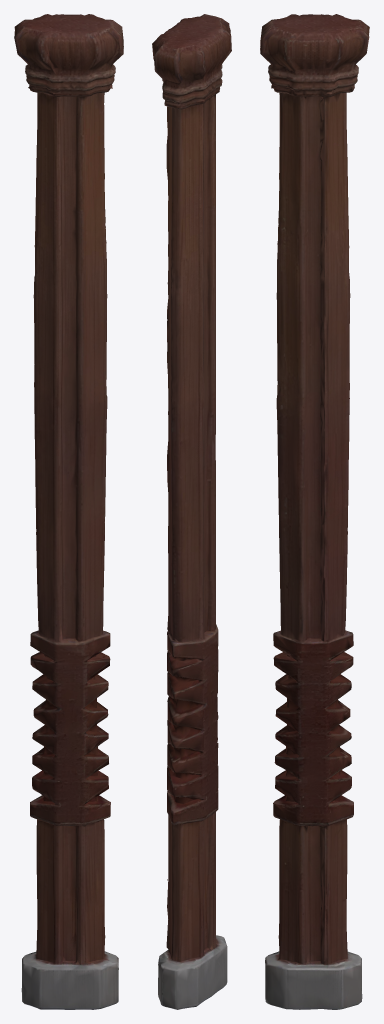
Rendered from DruidStaff.glb.
The picture shows the model from 3 angles, left to right: view 1: azimuth 90°, elevation 25°; view 2: azimuth 150°, elevation 25°; view 3: azimuth 270°, elevation 25°; orthographic projection.
Visible parts, largest first — view 1: tripo_node_d4c37412-7352-4947-b9af-5fb998834224; view 2: tripo_node_d4c37412-7352-4947-b9af-5fb998834224; view 3: tripo_node_d4c37412-7352-4947-b9af-5fb998834224.
Boxes of the visible parts, <box> form: tripo_node_d4c37412-7352-4947-b9af-5fb998834224: <box>14,14,123,1009</box>; tripo_node_d4c37412-7352-4947-b9af-5fb998834224: <box>152,14,231,1009</box>; tripo_node_d4c37412-7352-4947-b9af-5fb998834224: <box>260,14,369,1009</box>.
Size of the model in its own units: 0.055 by 0.9817 by 0.1.
1 material, 1 textured.
